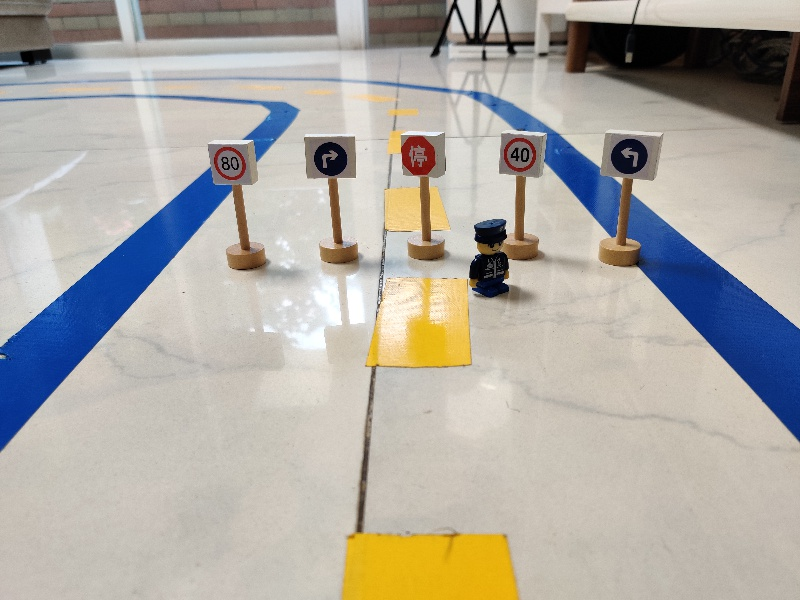limit_40: (493, 127, 552, 179)
limit_80: (203, 138, 262, 187)
person: (464, 216, 516, 299)
stop: (397, 128, 448, 180)
turn_left: (597, 126, 665, 183)
turn_right: (299, 131, 359, 182)
